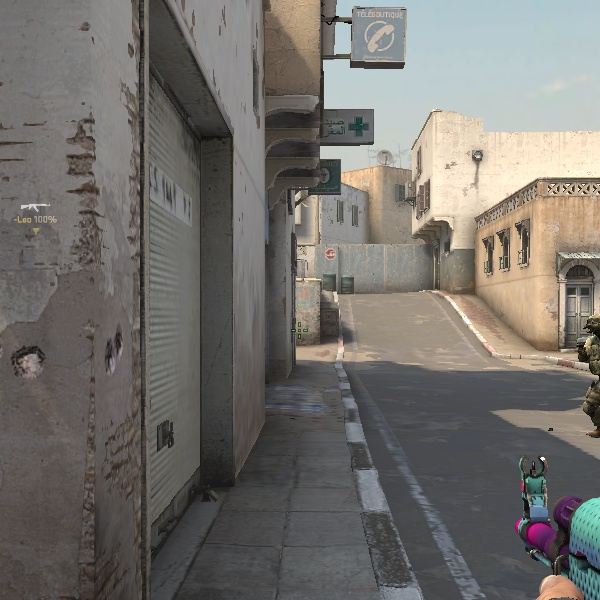ct_body: (558, 312, 597, 441)
